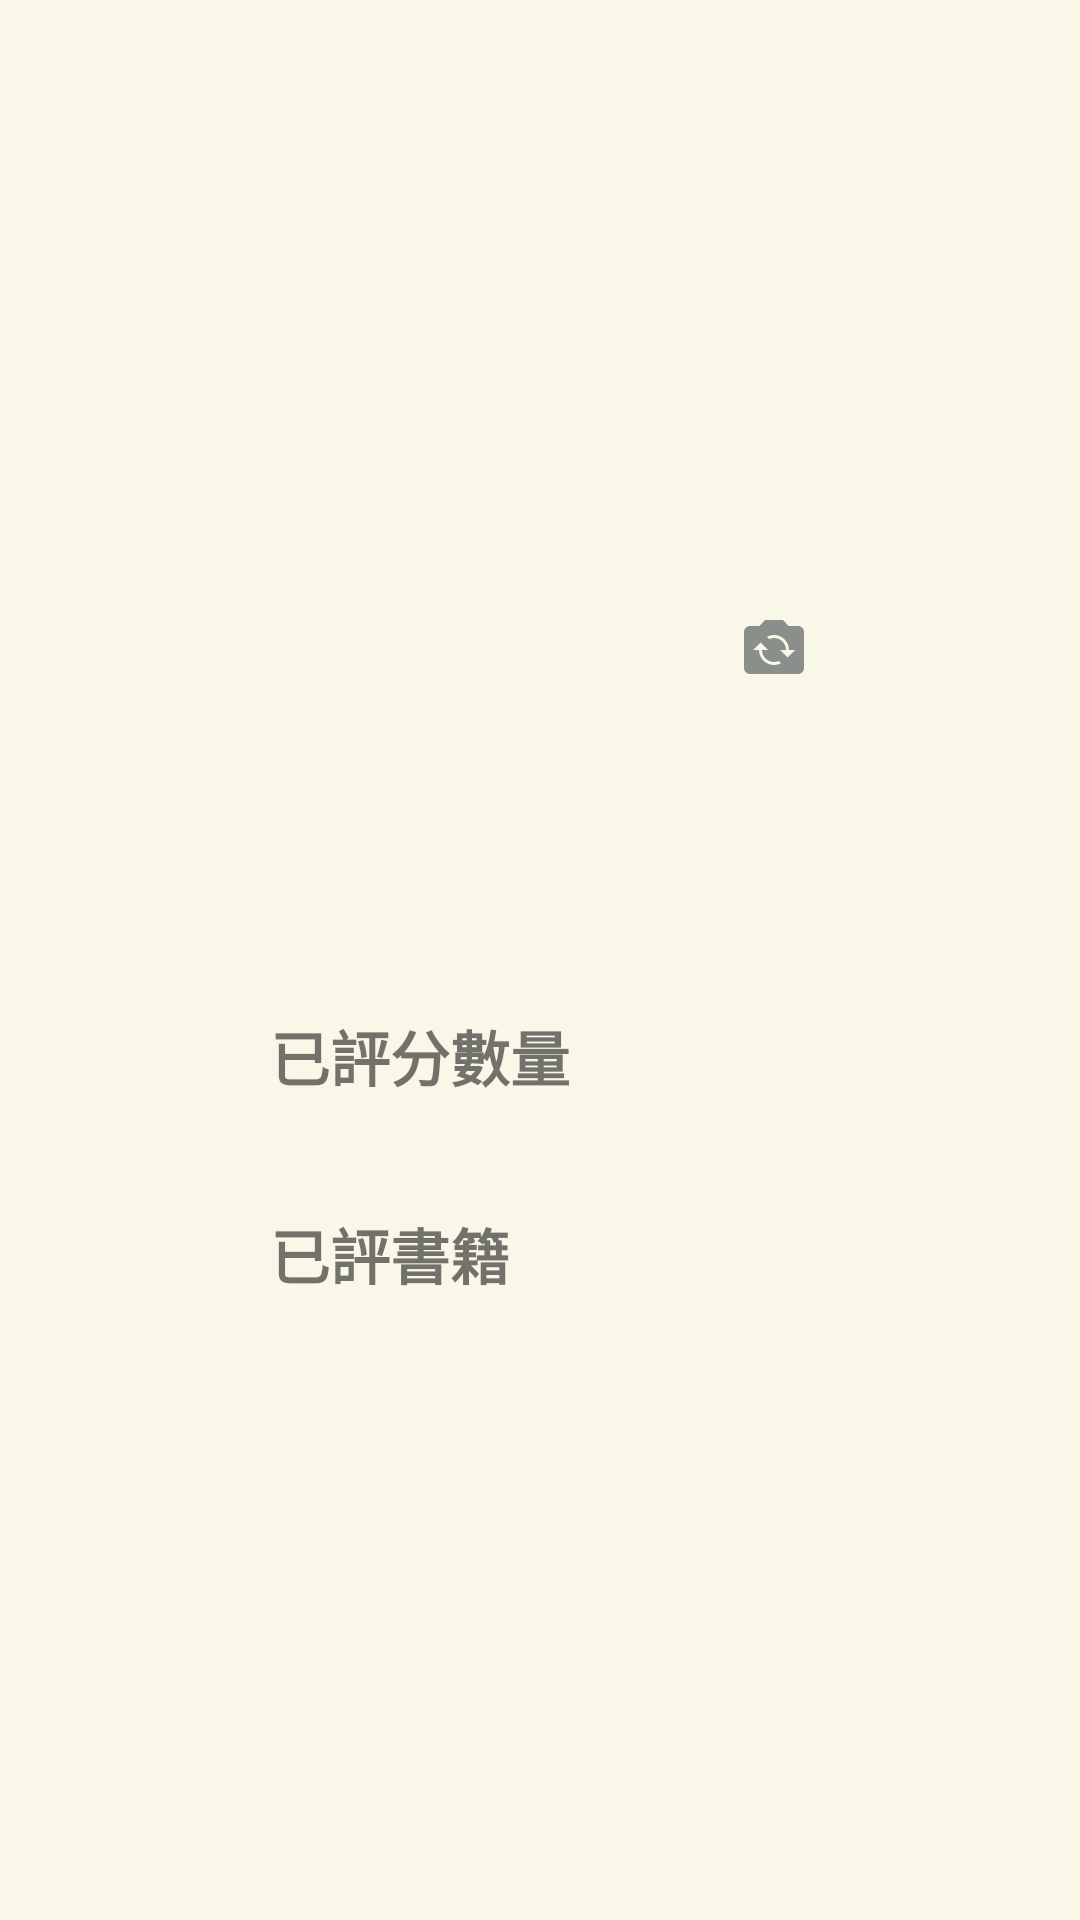

Screen size 1080 × 1920. Icon name, then its center in pixels as (x=x, y=y):
flip camera: (x=774, y=647)
